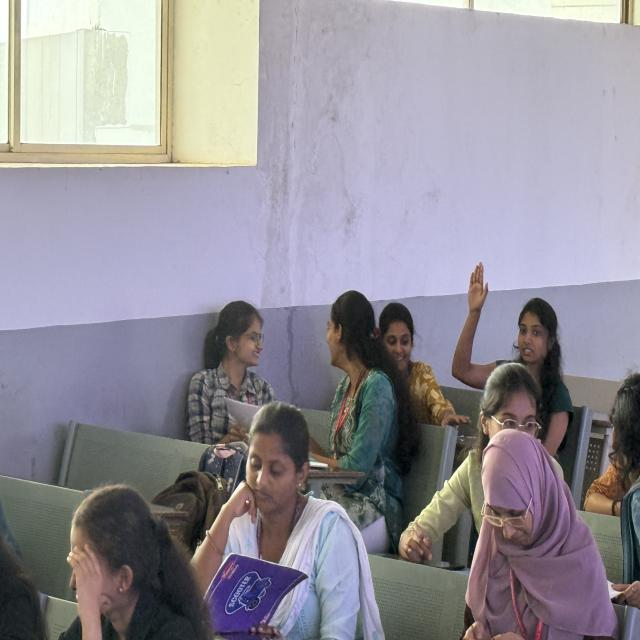Hand Rising: (449, 242, 594, 442)
Reading: (194, 410, 344, 640)
Using Phone: (420, 418, 628, 640)
